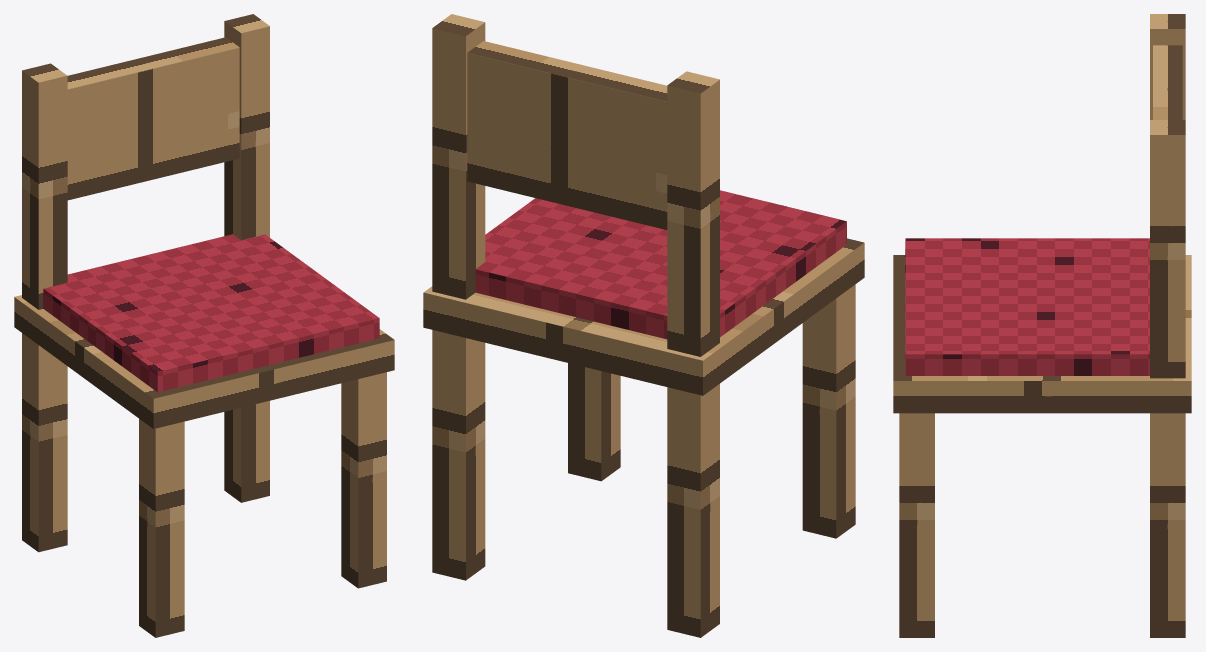
File: chair.glb
3 views of the same model, side by side, from view 1: azimuth 30°, elevation 25°; view 2: azimuth 150°, elevation 25°; view 3: azimuth 270°, elevation 25° (orthographic). The views are drawn at different scales.
Parts seen in each view (by area): view 1: chair; view 2: chair; view 3: chair.
Boxes of the visible parts, x1,y1,x2,y2 form: chair: (14, 14, 394, 637); chair: (423, 14, 864, 637); chair: (893, 14, 1191, 637).
Size of the model in its own units: 0.4839 by 0.9 by 0.4839.
Materials: 2 (2 with a texture image).
